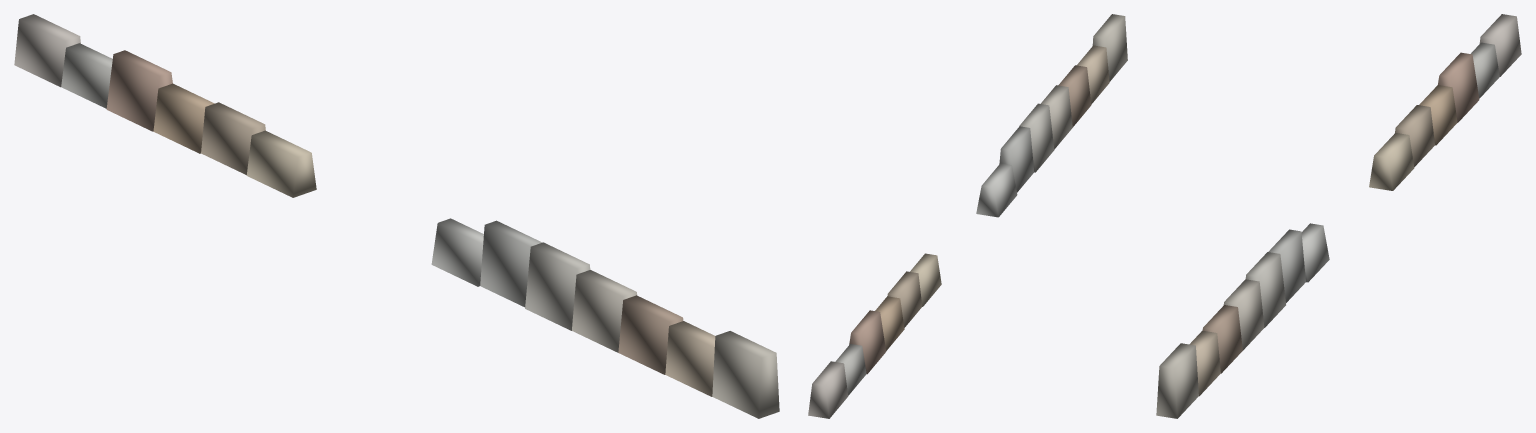
Rendered from farm_0_16_collision.glb.
The picture shows the model from 3 angles, left to right: view 1: azimuth 30°, elevation 25°; view 2: azimuth 150°, elevation 25°; view 3: azimuth 330°, elevation 25°; orthographic projection. The views are drawn at different scales.
Parts seen in each view (by area): view 1: geometry_0; view 2: geometry_0; view 3: geometry_0.
Part boxes in pixels (<box>): geometry_0: <box>14,14,779,418</box>; geometry_0: <box>808,14,1127,418</box>; geometry_0: <box>1156,14,1521,418</box>.
Bounding box in the file's own units: 4.78 × 2.06 × 24.96.
